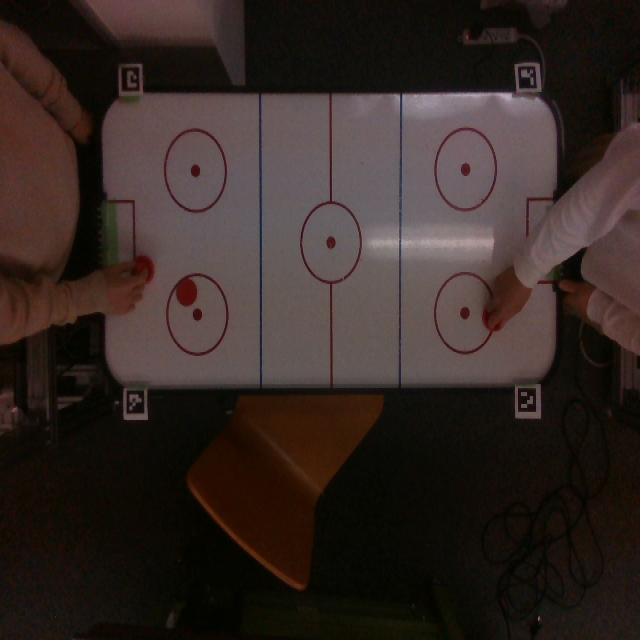puck: (176, 277, 197, 306)
